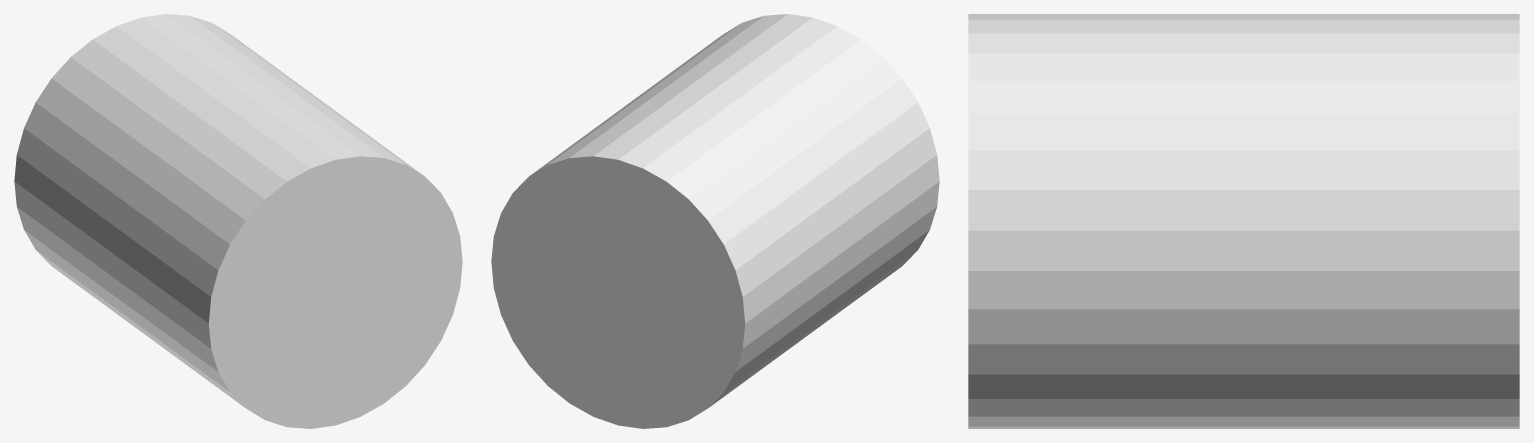
The model's file is paddleC.obj.
The picture shows the model from 3 angles, left to right: view 1: azimuth 30°, elevation 25°; view 2: azimuth 150°, elevation 25°; view 3: azimuth 270°, elevation 25°; orthographic projection. The views are drawn at different scales.
Visible parts, largest first — view 1: Cylinder; view 2: Cylinder; view 3: Cylinder.
Boxes of the visible parts, x1=… form: Cylinder: x1=14, y1=14, x2=462, y2=428; Cylinder: x1=491, y1=14, x2=939, y2=428; Cylinder: x1=968, y1=14, x2=1519, y2=428.
Bounding box in the file's own units: 0.4361 × 0.4361 × 0.5785.
1 material, 1 textured.
